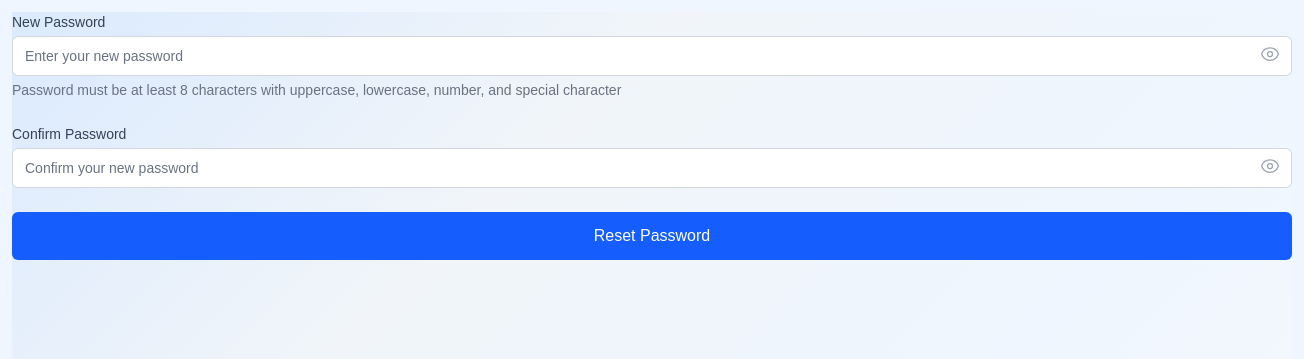
Test: PasswordResetForm › shows validation error for mismatched passwords
Type "Abcdef1!" into the password field with placeholder "Enter your new password" at point(652, 56), box [12,36,1292,76]
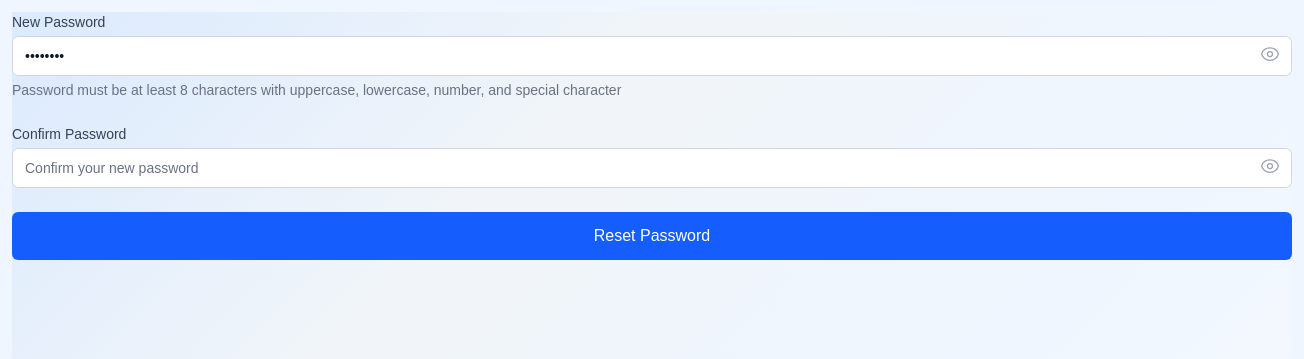
Type "Mismatch1!" into the password field with placeholder "Confirm your new password" at point(652, 168), box [12,148,1292,188]
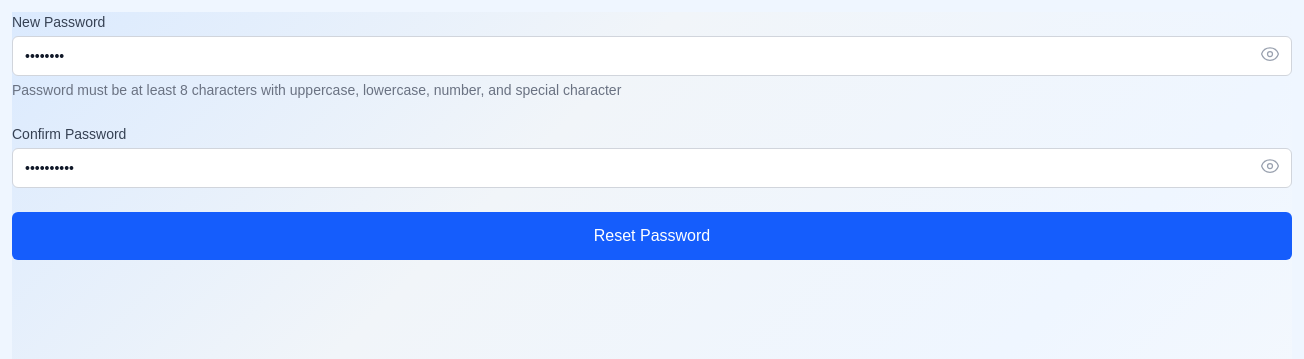
Click the button "Reset Password" at point(652, 236), box [12,212,1292,260]
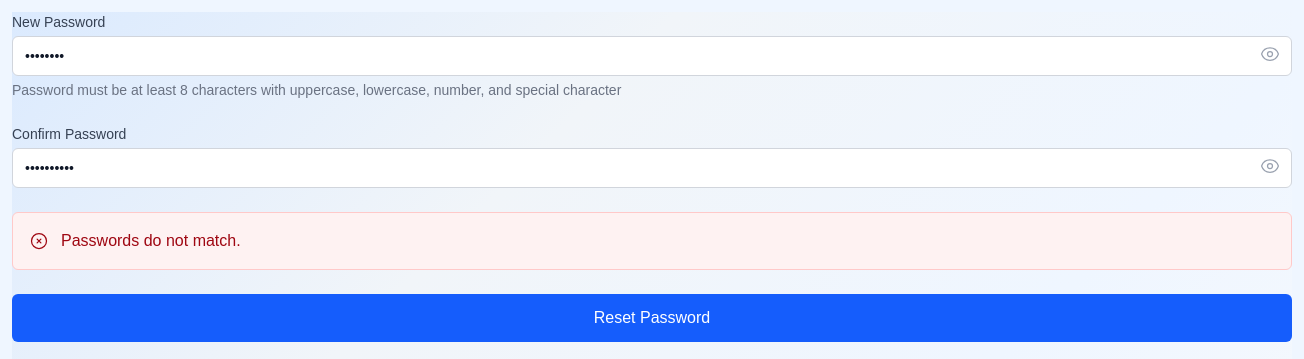
Check: the text "Passwords do not match." is shown, box [61,232,241,249]
